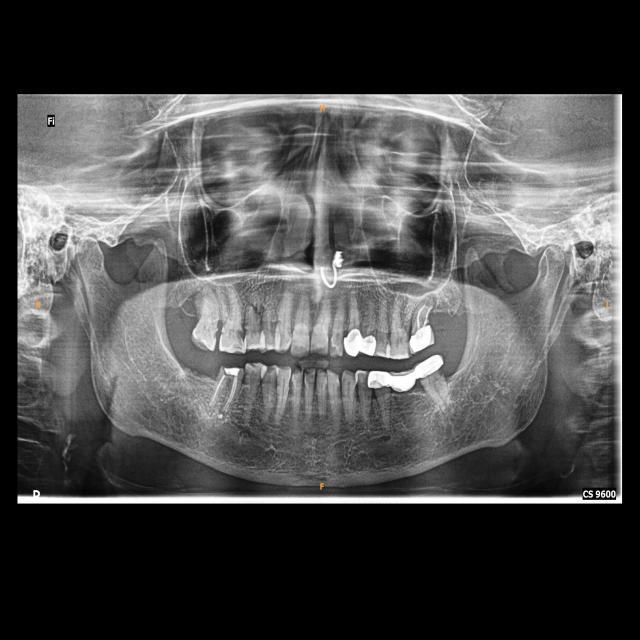dentin-curugu: (231, 324, 243, 344)
dolgu: (217, 364, 244, 380)
kanal-tedavisi: (207, 377, 239, 413), (410, 298, 433, 327)
kaplama: (417, 354, 447, 379), (408, 328, 435, 350), (345, 330, 361, 357), (369, 372, 393, 388), (361, 333, 376, 357)
kopru: (387, 368, 418, 399)
